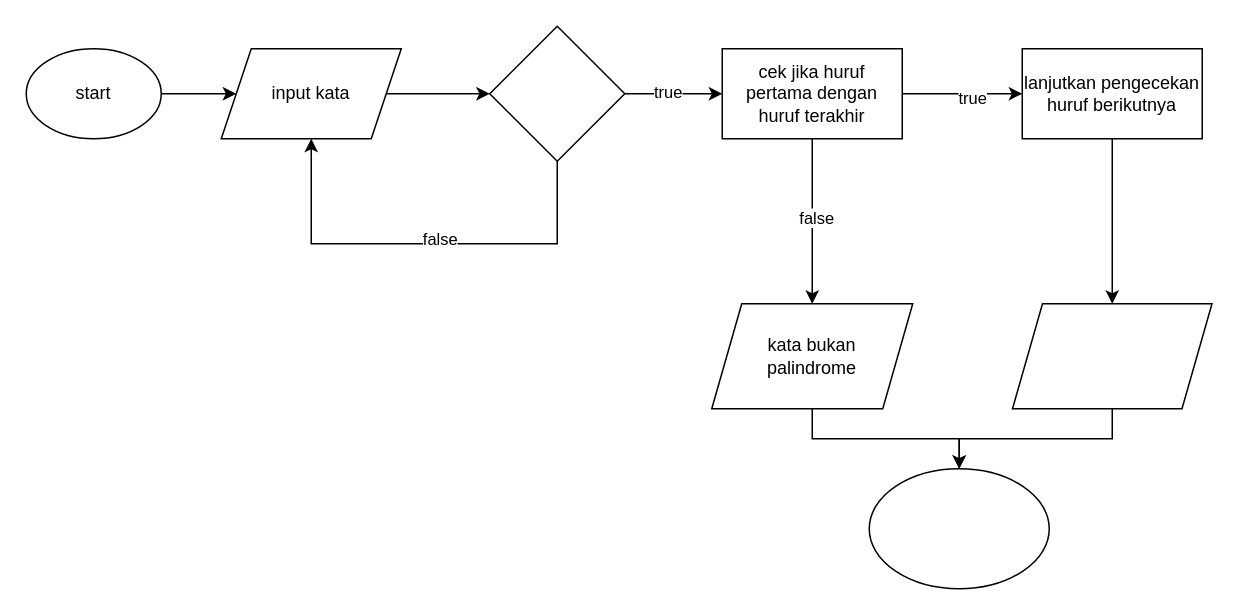
Some shapes in this 1239 by 615 pixel diagram are drawn without their labels. Here are the shapes that lost their labels. From the top down, the box of each, then its label:
(488, 25, 625, 161): input = string
(1011, 302, 1212, 409): kata merupakan palindrome
(868, 467, 1049, 589): end
